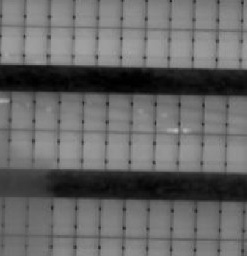solar: (46, 23, 76, 66), (69, 23, 99, 66), (94, 24, 124, 67), (119, 24, 149, 67), (142, 25, 172, 68), (165, 26, 195, 69), (190, 27, 220, 70), (215, 28, 245, 71), (6, 88, 36, 131), (31, 89, 61, 132), (56, 89, 86, 132), (80, 90, 110, 133), (104, 90, 134, 133), (128, 92, 158, 135), (153, 93, 183, 136), (175, 93, 205, 136), (200, 93, 230, 136), (198, 130, 228, 173), (175, 130, 205, 173), (151, 129, 181, 172), (127, 129, 157, 172), (102, 129, 132, 172), (79, 129, 109, 172), (56, 128, 86, 171), (31, 128, 61, 171), (6, 126, 36, 169), (24, 194, 54, 237), (49, 195, 79, 238), (71, 195, 101, 238), (97, 197, 127, 240), (121, 197, 151, 240), (145, 199, 175, 242), (169, 199, 199, 242), (193, 199, 223, 242), (217, 199, 247, 242), (1, 192, 30, 235), (22, 24, 52, 65)
